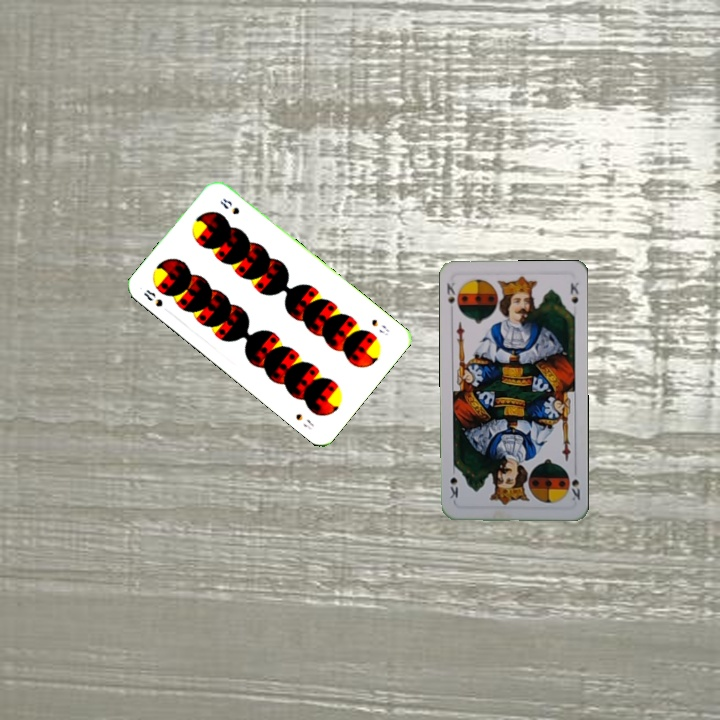S8: (140, 285, 166, 310), (367, 315, 392, 338)
SK: (442, 279, 462, 316), (567, 475, 582, 504)
